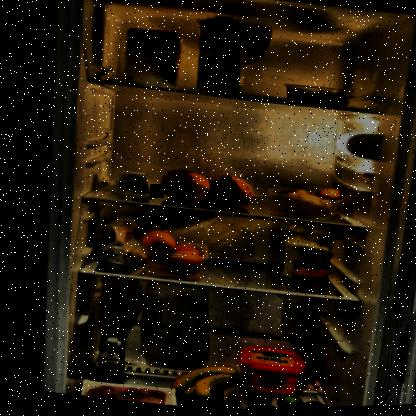banana: (162, 358, 251, 412)
blueberries: (279, 82, 351, 112)
butter: (228, 344, 307, 401)
corn: (285, 260, 327, 296)
heavy_cream: (89, 334, 123, 384)
lime: (235, 388, 328, 410)
milk: (187, 13, 252, 102)
onion: (133, 225, 210, 284)
potato: (261, 179, 346, 228)
sweet_potato: (149, 162, 254, 215)
